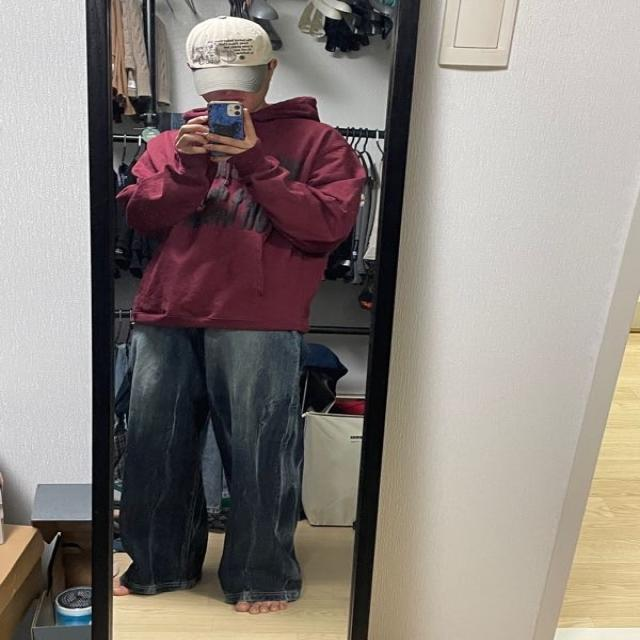denimpants: (121, 322, 307, 596)
hoodies: (112, 95, 371, 332)
